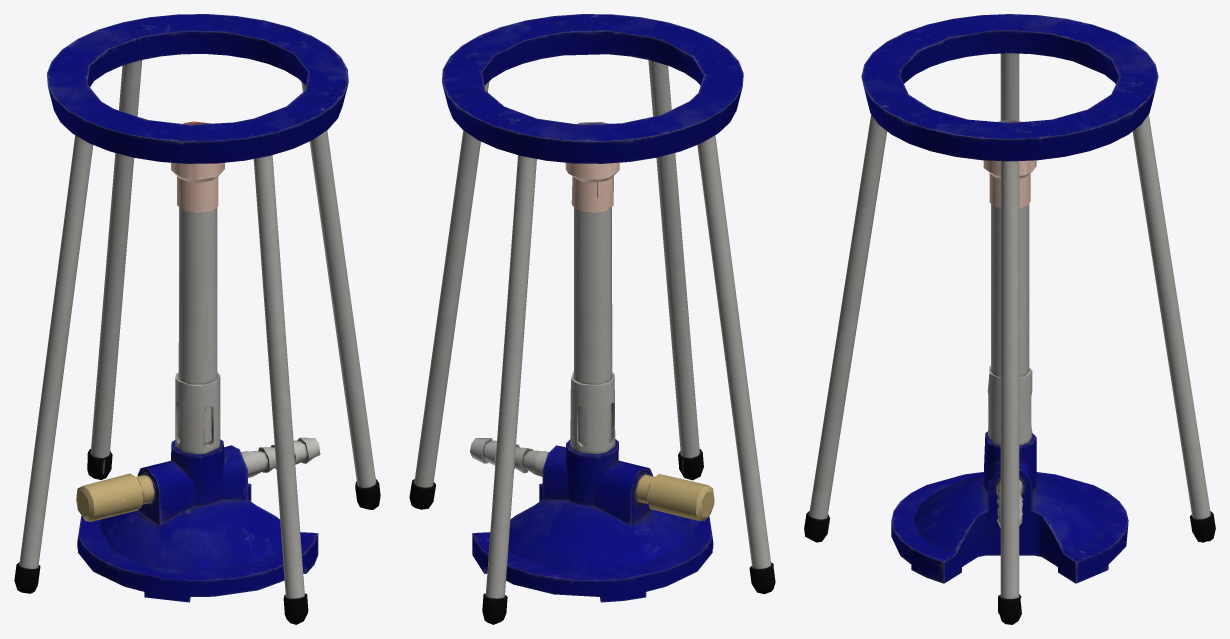
File: bunsen_burner.glb
The picture shows the model from 3 angles, left to right: view 1: azimuth 30°, elevation 25°; view 2: azimuth 150°, elevation 25°; view 3: azimuth 270°, elevation 25°; orthographic projection.
Visible parts, largest first — view 1: bunsen_burner; view 2: bunsen_burner; view 3: bunsen_burner.
Part boxes in pixels (left/top/right/bottom): bunsen_burner: left=14, top=14, right=380, bottom=624; bunsen_burner: left=409, top=14, right=775, bottom=624; bunsen_burner: left=804, top=14, right=1215, bottom=624.
Size of the model in its own units: 0.1388 by 0.1731 by 0.1388.
1 material, 1 textured.
